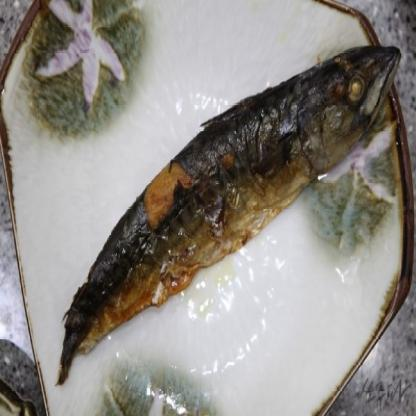Peixe: (40, 15, 408, 384)
